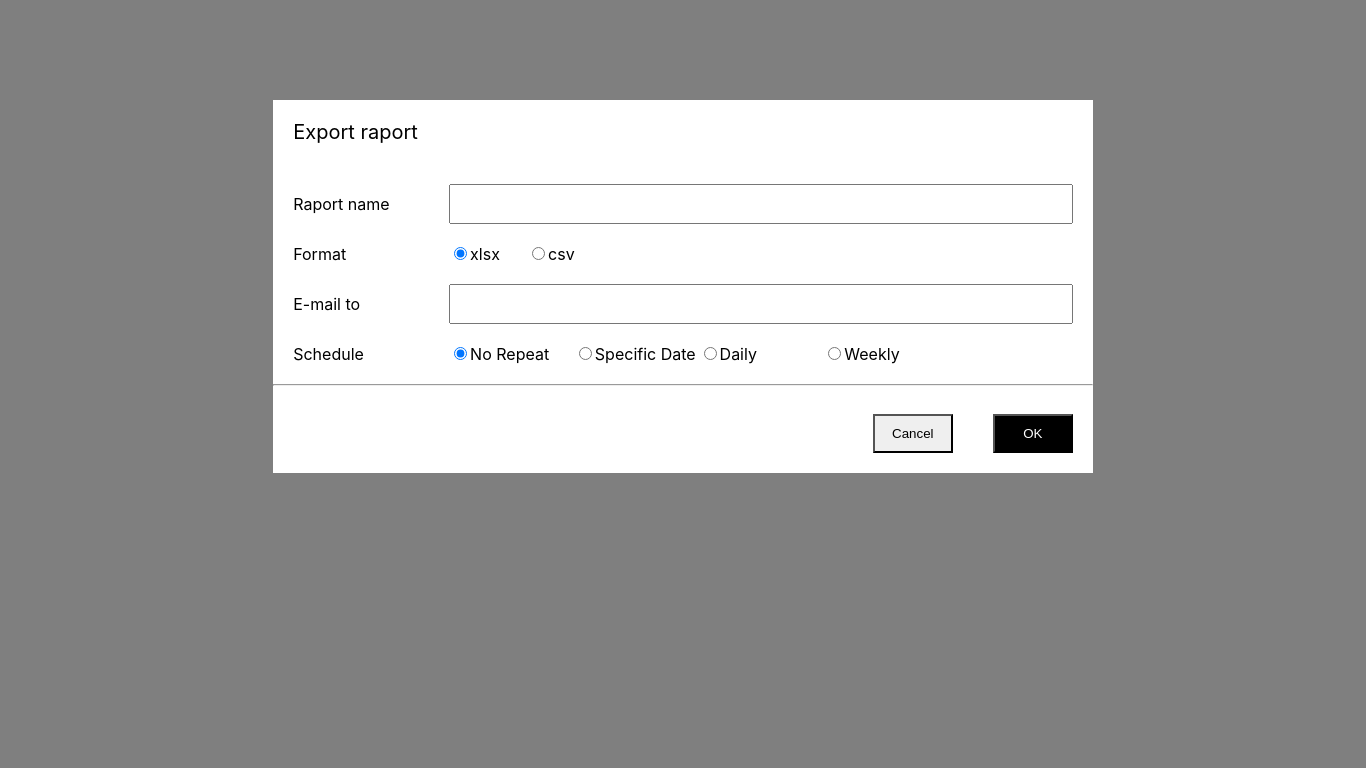
Test case: Checking value changes › Schedule type change for type-two
This screenshot has width=1366, height=768.
Click the radio button with test id "type-two": point(710, 354) [704,347,717,360]
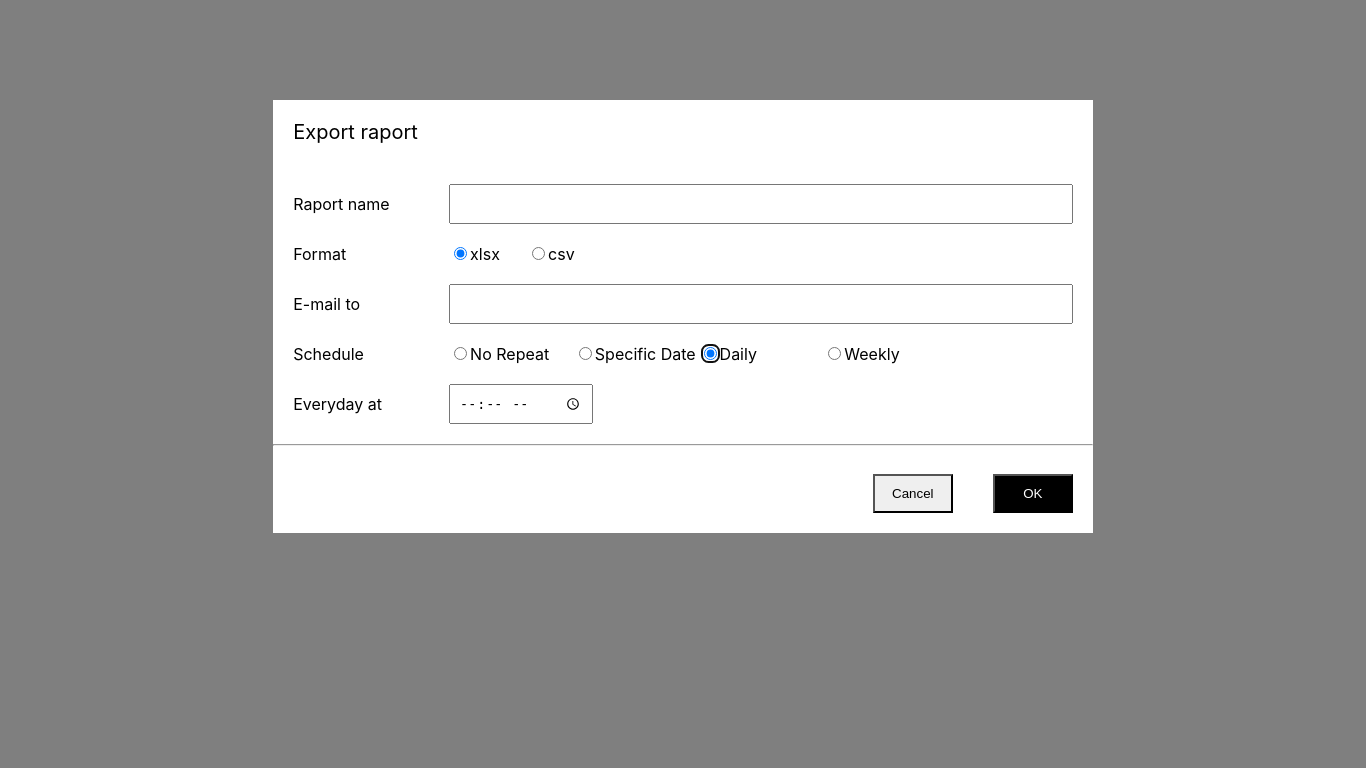
Result: the radio button with test id "type-two" is checked at [704,347,717,360]
Result: the radio button with test id "type-zero" is not checked at [454,347,467,360]
Result: the label with test id "schedule-label" reads "Everyday at" at [293,394,382,414]
